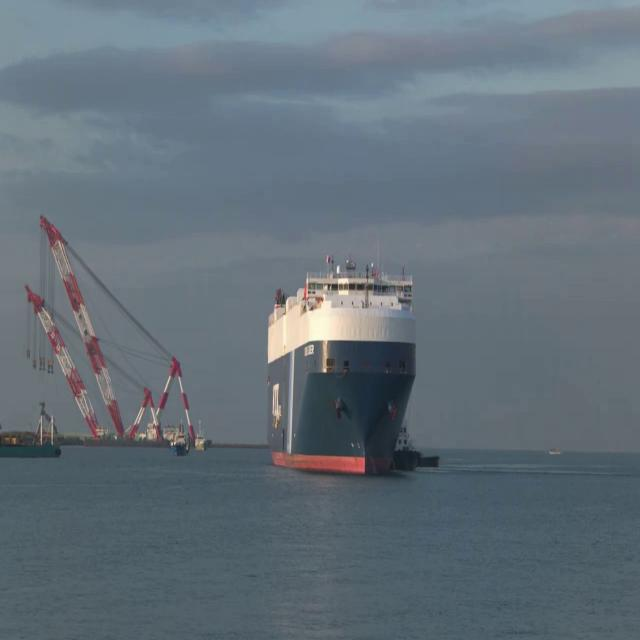OCR: (271, 380, 282, 424), (303, 343, 315, 360)
